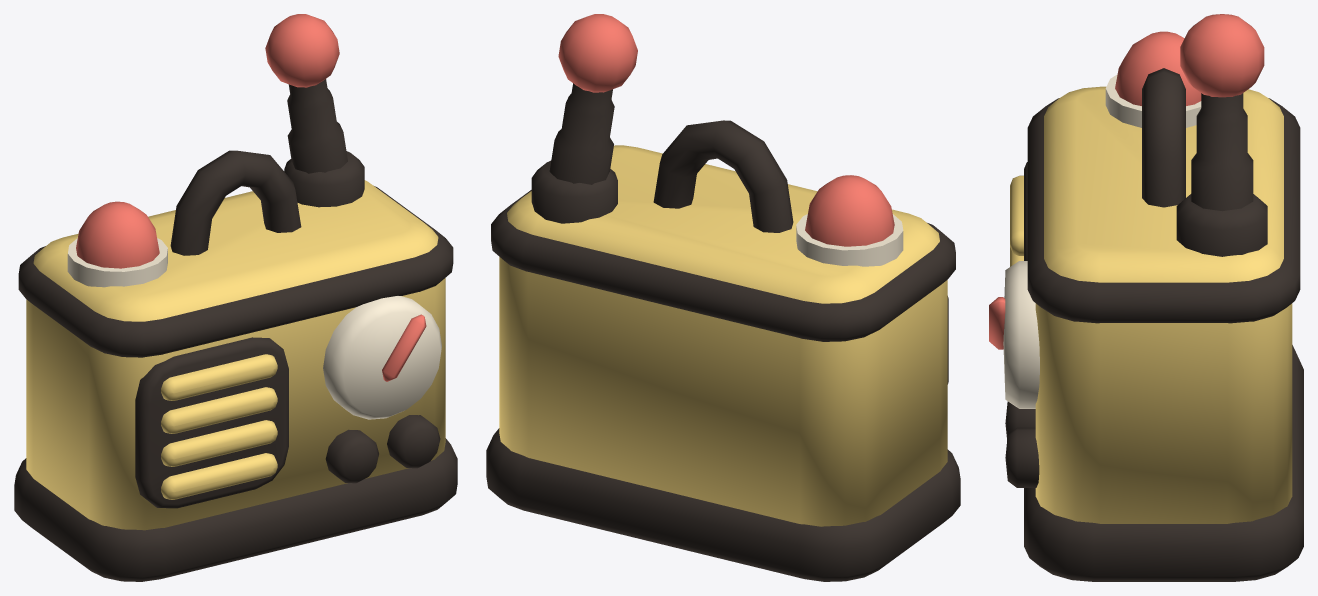
The model's file is ShopRadio.fbx.
The picture shows the model from 3 angles, left to right: view 1: azimuth 30°, elevation 25°; view 2: azimuth 150°, elevation 25°; view 3: azimuth 270°, elevation 25°; orthographic projection. The views are drawn at different scales.
Parts seen in each view (by area): view 1: ShopRadio; view 2: ShopRadio; view 3: ShopRadio.
Boxes of the visible parts, <box> form: ShopRadio: <box>14,14,457,581</box>; ShopRadio: <box>486,14,960,581</box>; ShopRadio: <box>989,14,1303,581</box>.
Bounding box in the file's own units: 0.42 × 0.4896 × 0.27.
